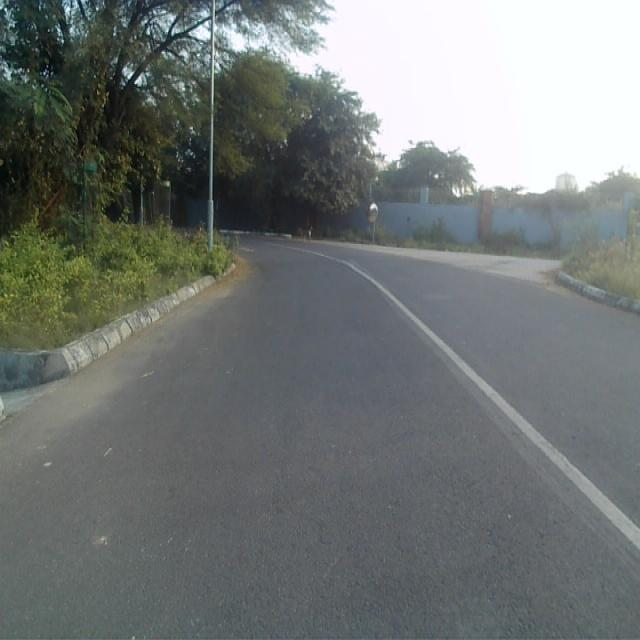lane: (0, 247, 640, 640)
